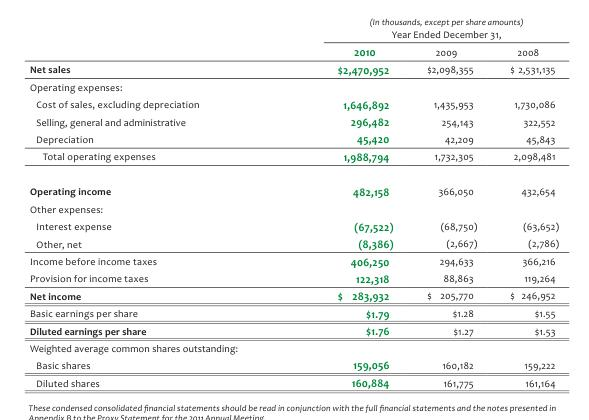table: (28, 29, 558, 389)
table column: (28, 29, 267, 389), (267, 29, 409, 389), (409, 29, 492, 389), (492, 29, 558, 389)
table column header: (28, 29, 558, 61)
table projected row header: (28, 79, 558, 96), (28, 201, 558, 217), (28, 340, 558, 356)
table row: (28, 174, 558, 201), (28, 148, 558, 174), (28, 43, 558, 61), (28, 61, 558, 79), (28, 113, 558, 131), (28, 217, 558, 235), (28, 235, 558, 253), (28, 287, 558, 305), (28, 322, 558, 340), (28, 356, 558, 374), (28, 79, 558, 96), (28, 96, 558, 113), (28, 131, 558, 148), (28, 253, 558, 270), (28, 270, 558, 287), (28, 305, 558, 322), (28, 201, 558, 217), (28, 340, 558, 356), (28, 374, 558, 389), (28, 29, 558, 43)
table spanning cell: (267, 29, 558, 43)
